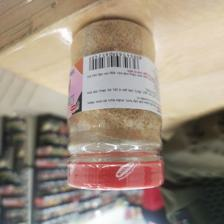Hao_hao: (65, 15, 165, 190)
